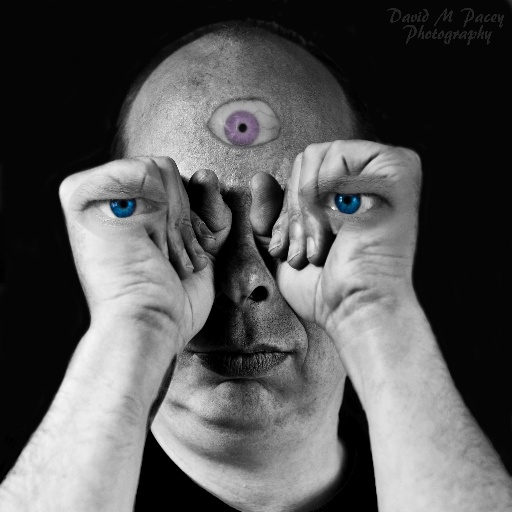hand: (57, 146, 240, 333), (248, 138, 424, 329)
